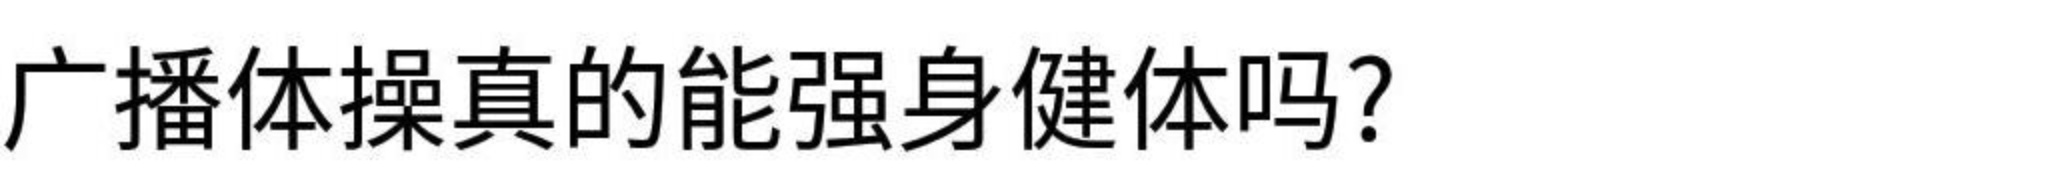TextView: (1, 1, 2059, 191)
